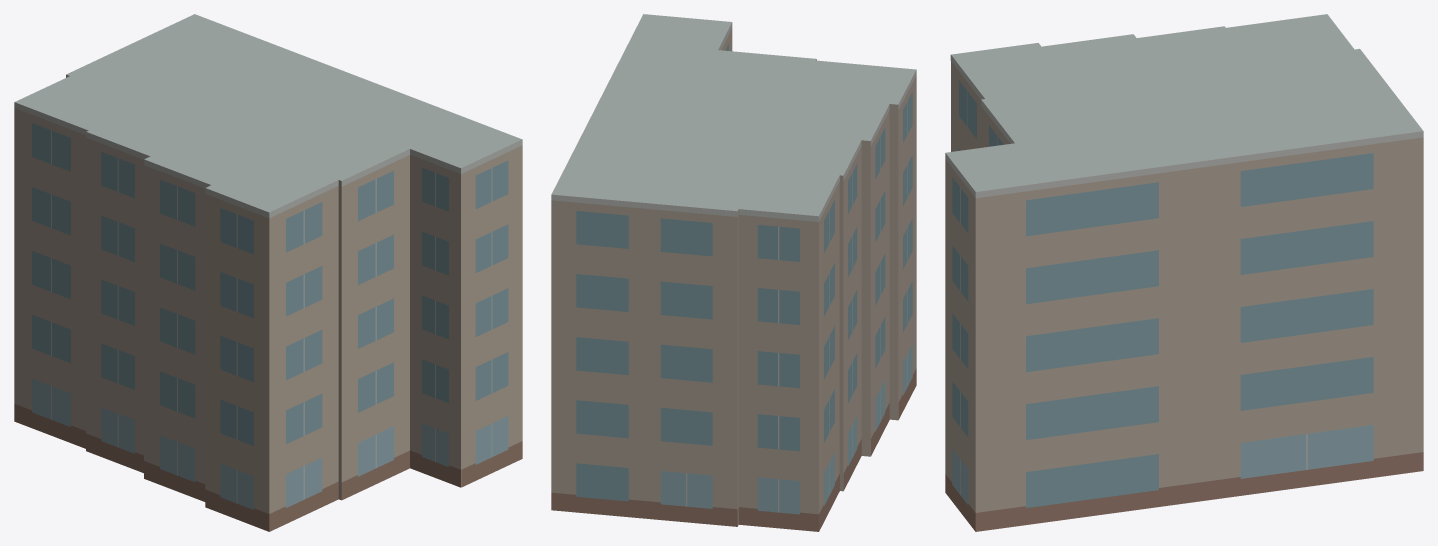
The model's file is survey-upis-32923820.glb.
3 renders of one model, left to right at view 1: azimuth 30°, elevation 25°; view 2: azimuth 150°, elevation 25°; view 3: azimuth 270°, elevation 25°, orthographic. The views are drawn at different scales.
Parts seen in each view (by area): view 1: survey-upis-32923820.tmp; view 2: survey-upis-32923820.tmp; view 3: survey-upis-32923820.tmp.
Part boxes in pixels (x1,y1,x2,y2): survey-upis-32923820.tmp: (14, 14, 522, 531); survey-upis-32923820.tmp: (551, 14, 916, 531); survey-upis-32923820.tmp: (945, 14, 1423, 531).
Size of the model in its own units: 15.07 by 13.4 by 17.1.
